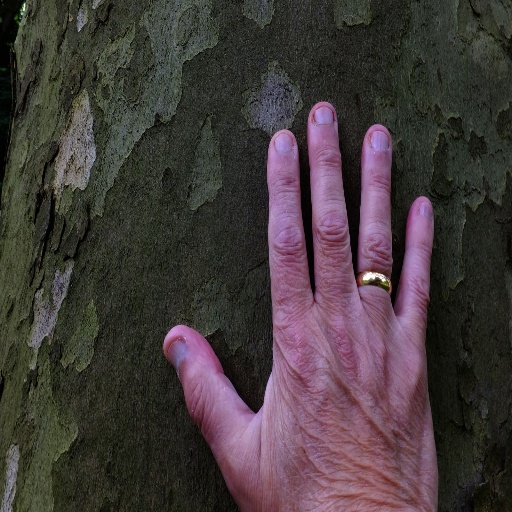hand: (162, 99, 438, 511)
